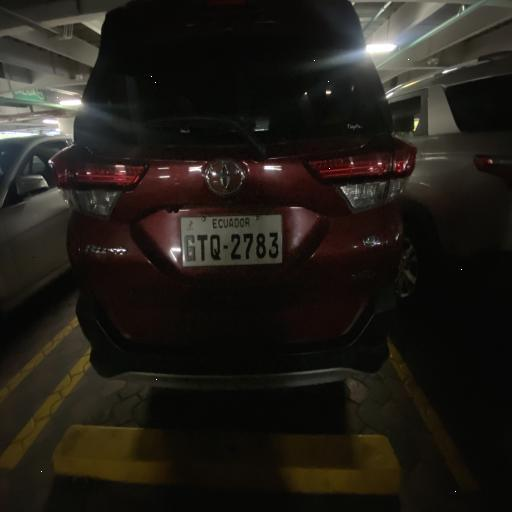license_plate: (182, 233, 198, 264), (208, 232, 222, 260), (229, 233, 243, 260), (196, 232, 209, 261), (267, 232, 280, 260), (242, 233, 254, 260), (255, 233, 267, 259)
